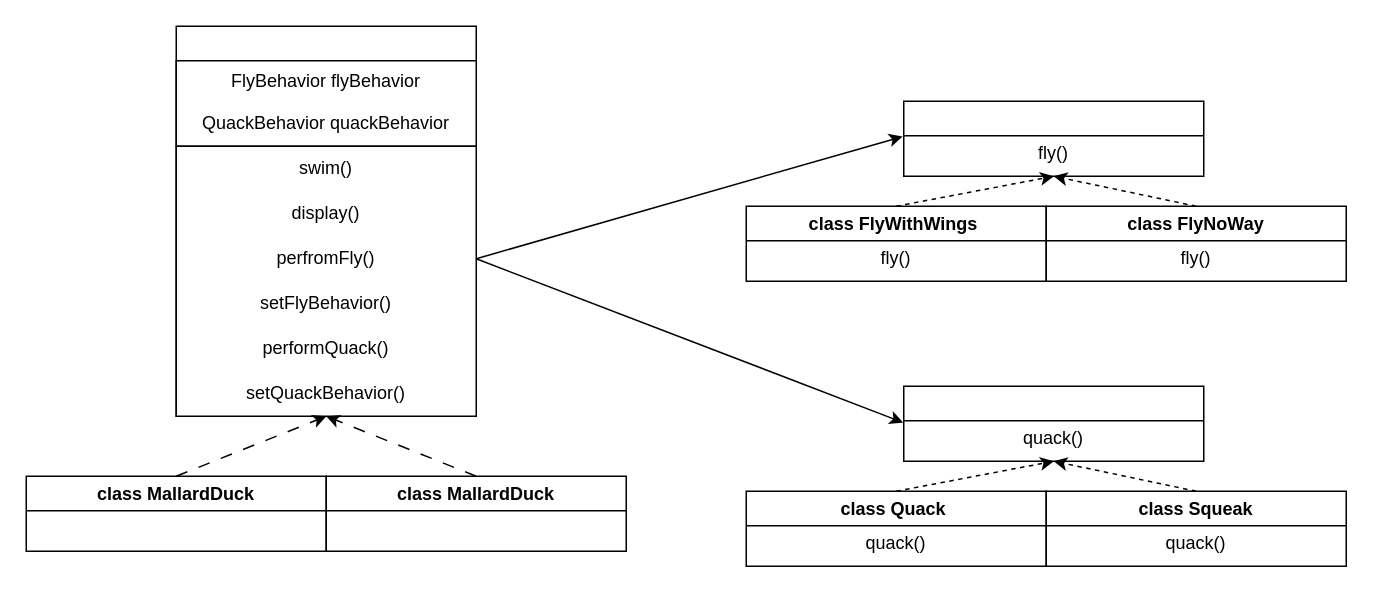
Image size: 1373x593. Some labels were removed from this diagram. Here are the shapes that lost their labels. From the top down, the box of each, then its label:
(902, 100, 1204, 176): Interface FlyBehavior
(175, 25, 476, 416): Duck
(902, 385, 1204, 461): Interface QuackBehavior
